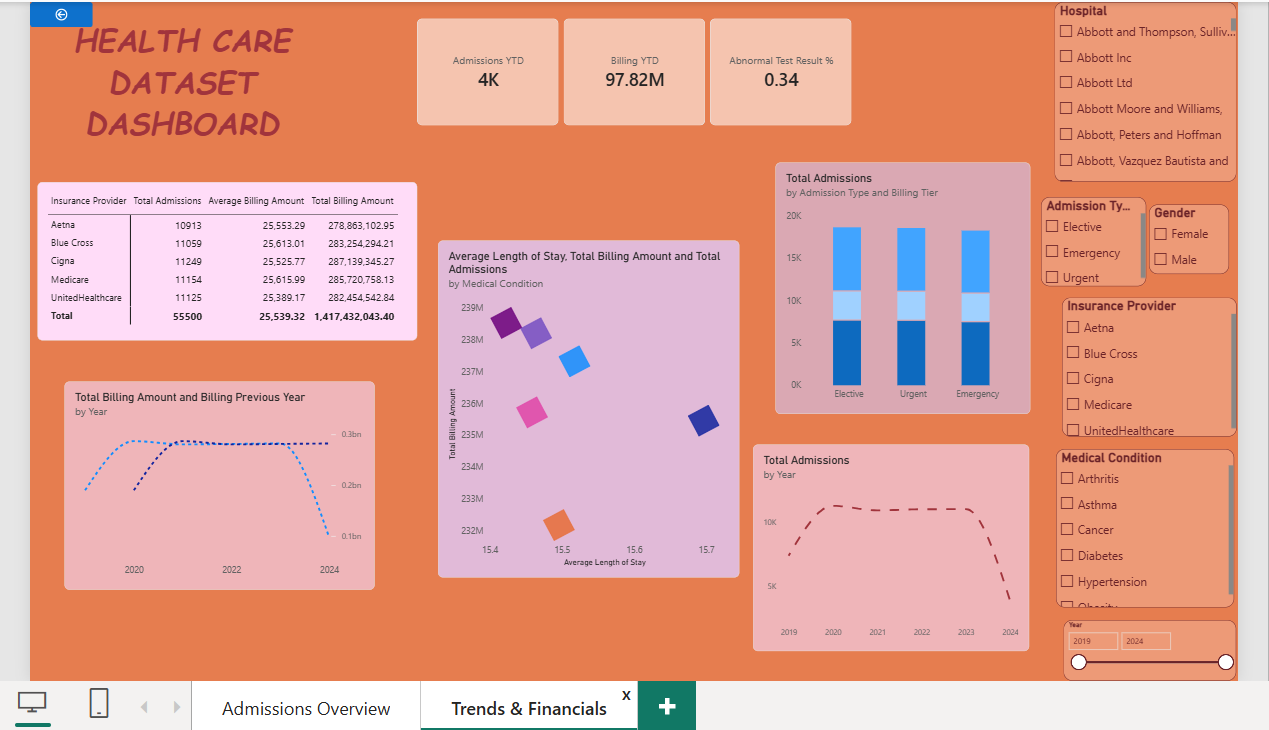

The dashboard page shown, as its layout file describes it:
{"tool":"powerbi","page":{"name":"Trends & Financials","canvas":[1920,1080],"ordinal":1},"visuals":[{"type":"cardVisual","fields":{"Data":["Fact Admissions.Admissions YTD","Fact Admissions.Billing YTD","Fact Admissions.Abnormal Test Result %"]},"box":[615.1,25.5,691.7,170.1],"z":0},{"type":"slicer","fields":{"Values":["Dim Hospital.Hospital"]},"box":[1629.9,0,289.1,286.3],"z":1000},{"type":"slicer","fields":{"Values":["Fact Admissions.Admission Type"]},"box":[1607.3,309,167.2,141.7],"z":2000},{"type":"slicer","fields":{"Values":["Fact Admissions.Gender"]},"box":[1780.2,323.2,127.6,110.6],"z":3000},{"type":"slicer","fields":{"Values":["Fact Admissions.Insurance Provider"]},"box":[1641.3,470.6,277.8,221.1],"z":4000},{"type":"slicer","fields":{"Values":["Dim Condition.Medical Condition"]},"box":[1632.8,711.5,283.5,252.3],"z":5000},{"type":"slicer","fields":{"Values":["Dim Calendar.Year"]},"box":[1644.1,983.6,275,96.4],"z":6000},{"type":"textbox","box":[12,26.9,460.1,206.1],"z":7000},{"type":"lineChart","fields":{"Category":["Dim Calendar.Date.Variation.Date Hierarchy.Year"],"Y":["Fact Admissions.Total Admissions"]},"box":[1150.9,703,439.4,328.8],"z":8000},{"type":"lineChart","fields":{"Category":["Dim Calendar.Year"],"Y2":["Fact Admissions.Total Billing Amount","Fact Admissions.Billing Previous Year"]},"box":[53.9,603.8,493.2,331.7],"z":9000},{"type":"pivotTable","fields":{"Rows":["Fact Admissions.Insurance Provider"],"Values":["Fact Admissions.Total Admissions","Fact Admissions.Average Billing Amount","Fact Admissions.Total Billing Amount"]},"box":[11.3,286.3,603.8,252.3],"z":10000},{"type":"actionButton","box":[0,0,100,40],"z":11000},{"type":"scatterChart","fields":{"X":["Fact Admissions.Average Length of Stay"],"Y":["Fact Admissions.Total Billing Amount"],"Series":["Dim Condition.Medical Condition"],"Size":["Fact Admissions.Total Admissions"]},"box":[649.1,379.8,479.1,535.8],"z":12000},{"type":"columnChart","fields":{"Category":["Fact Admissions.Admission Type"],"Y":["Fact Admissions.Total Admissions"],"Series":["Fact Admissions.Billing Tier"]},"box":[1184.9,255.1,405.4,399.7],"z":13000}]}

Visuals, with their boxes on the page's 1920x1080 design canvas (x1, y1, x2, y2). These are canvas units, not pixel positions in the 1269x730 screenshot, which may show the page scaled, cropped or inside an application window:
cardVisual - Fact Admissions.Admissions YTD x Fact Admissions.Billing YTD: (615, 26, 1307, 196)
slicer - Dim Hospital.Hospital: (1630, 0, 1919, 286)
slicer - Fact Admissions.Admission Type: (1607, 309, 1774, 451)
slicer - Fact Admissions.Gender: (1780, 323, 1908, 434)
slicer - Fact Admissions.Insurance Provider: (1641, 471, 1919, 692)
slicer - Dim Condition.Medical Condition: (1633, 712, 1916, 964)
slicer - Dim Calendar.Year: (1644, 984, 1919, 1080)
textbox: (12, 27, 472, 233)
lineChart - Dim Calendar.Date.Variation.Date Hierarchy.Year x Fact Admissions.Total Admissions: (1151, 703, 1590, 1032)
lineChart - Dim Calendar.Year x Fact Admissions.Total Billing Amount: (54, 604, 547, 936)
pivotTable - Fact Admissions.Insurance Provider x Fact Admissions.Total Admissions: (11, 286, 615, 539)
actionButton: (0, 0, 100, 40)
scatterChart - Fact Admissions.Average Length of Stay x Fact Admissions.Total Billing Amount: (649, 380, 1128, 916)
columnChart - Fact Admissions.Admission Type x Fact Admissions.Total Admissions: (1185, 255, 1590, 655)
